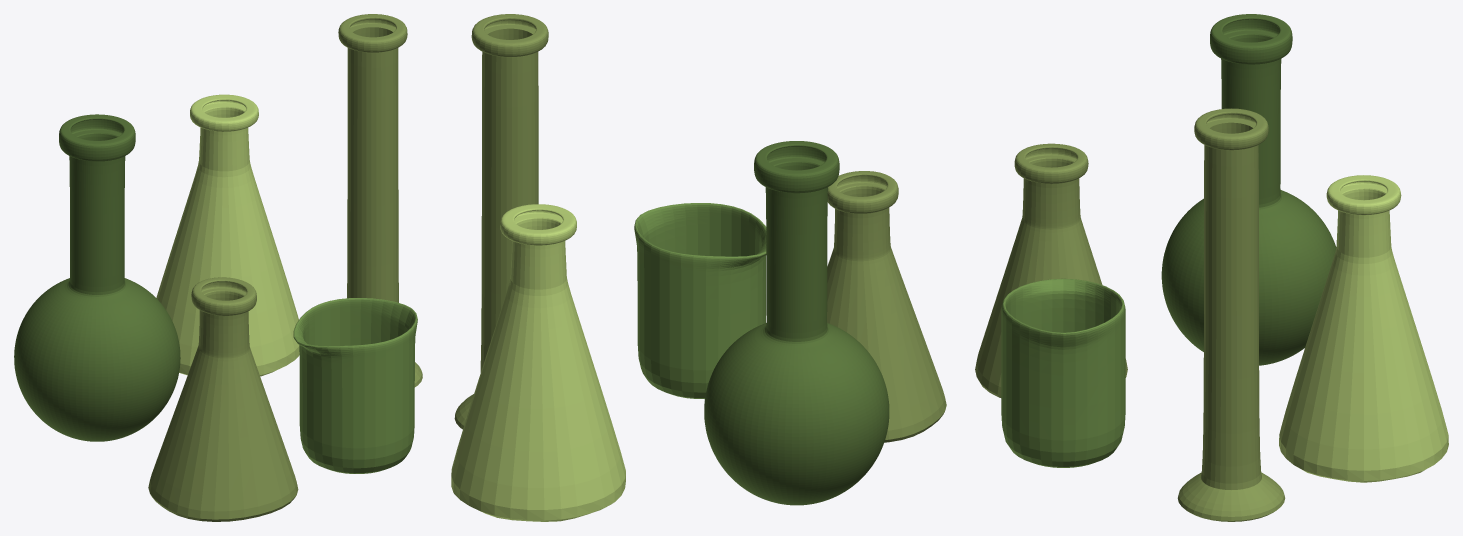
File: Beaker_Group1.glb
3 renders of one model, left to right at view 1: azimuth 30°, elevation 25°; view 2: azimuth 150°, elevation 25°; view 3: azimuth 270°, elevation 25°, orthographic. The views are drawn at different scales.
Parts seen in each view (by area): view 1: pSphere1, pCylinder1, pCylinder6, pCylinder2, pCylinder5; view 2: pSphere1, pCylinder6, pCylinder2, pCylinder1, pCylinder5; view 3: pCylinder6, pCylinder5, pSphere1, pCylinder2, pCylinder1.
Part boxes in pixels (left/top/right/bottom): pSphere1: left=14, top=114, right=180, bottom=441; pCylinder1: left=148, top=277, right=298, bottom=521; pCylinder6: left=156, top=94, right=299, bottom=376; pCylinder2: left=293, top=298, right=417, bottom=473; pCylinder5: left=338, top=14, right=422, bottom=387; pSphere1: left=704, top=141, right=889, bottom=505; pCylinder6: left=451, top=204, right=625, bottom=521; pCylinder2: left=634, top=203, right=766, bottom=399; pCylinder1: left=827, top=171, right=946, bottom=442; pCylinder5: left=454, top=14, right=548, bottom=429; pCylinder6: left=1279, top=175, right=1448, bottom=482; pCylinder5: left=1177, top=108, right=1285, bottom=521; pSphere1: left=1161, top=14, right=1336, bottom=365; pCylinder2: left=1001, top=278, right=1125, bottom=467; pCylinder1: left=975, top=143, right=1127, bottom=397.
Bounding box in the file's own units: 1.91 × 1.69 × 1.9.
